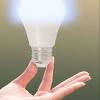bulb: (13, 1, 71, 42)
